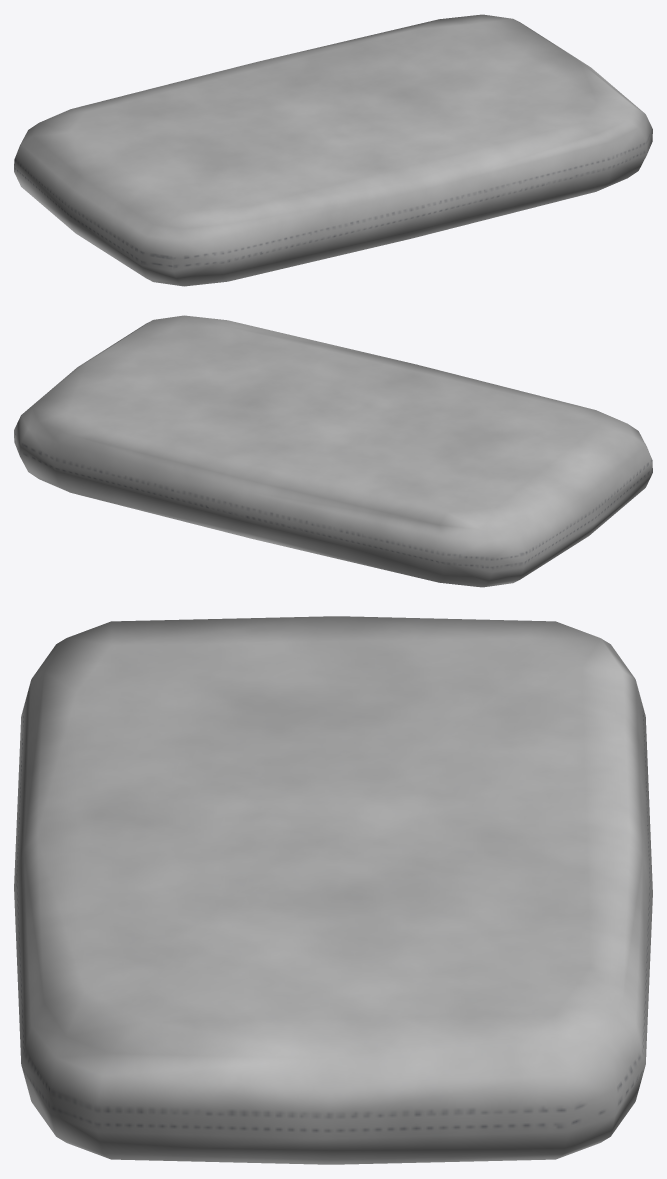
The model's file is LowerTorso_C1.fbx.
3 views of the same model, one above another, from view 1: azimuth 30°, elevation 25°; view 2: azimuth 150°, elevation 25°; view 3: azimuth 270°, elevation 25° (orthographic). The views are drawn at different scales.
Visible parts, largest first — view 1: Civ_CamisaCuadros_LowerTorso_C1; view 2: Civ_CamisaCuadros_LowerTorso_C1; view 3: Civ_CamisaCuadros_LowerTorso_C1.
Part boxes in pixels (<box>): Civ_CamisaCuadros_LowerTorso_C1: <box>14,14,652,286</box>; Civ_CamisaCuadros_LowerTorso_C1: <box>14,315,652,587</box>; Civ_CamisaCuadros_LowerTorso_C1: <box>14,616,652,1164</box>.
Bounding box in the file's own units: 2.25 × 0.2805 × 1.29.
